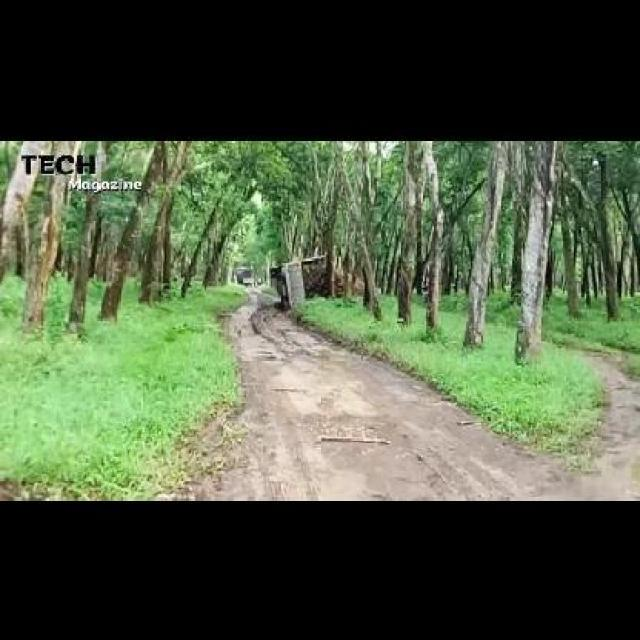accident: (261, 248, 354, 308)
